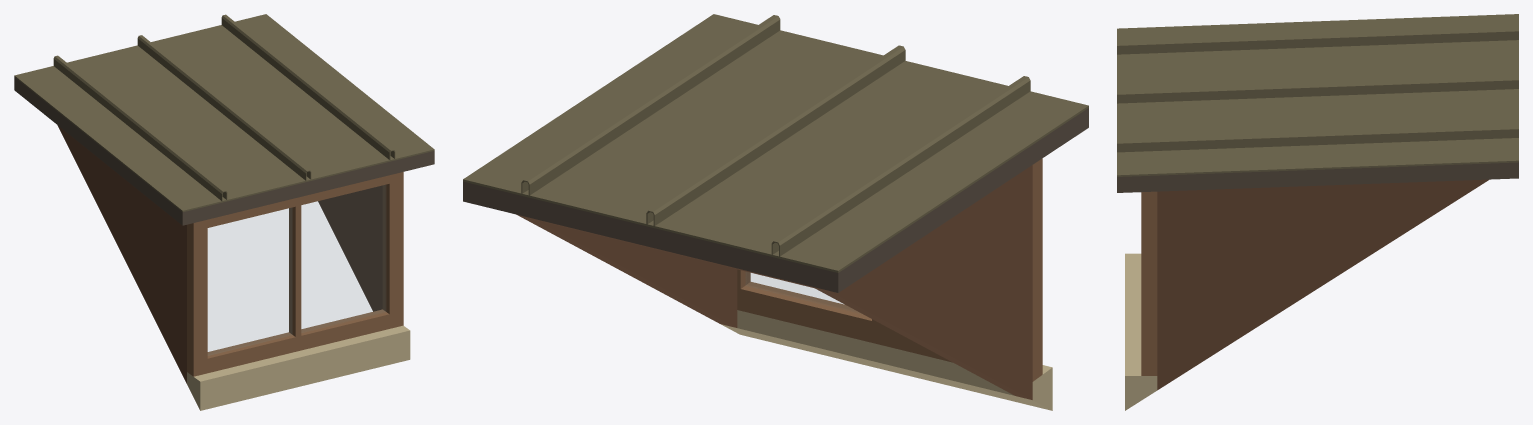
Rendered from rpg-mansion-fixed-shed-dormer-01.glb.
The picture shows the model from 3 angles, left to right: view 1: azimuth 30°, elevation 25°; view 2: azimuth 150°, elevation 25°; view 3: azimuth 270°, elevation 25°; orthographic projection. The views are drawn at different scales.
Visible parts, largest first — view 1: rpg-mansion-fixed-shed-dormer-01; view 2: rpg-mansion-fixed-shed-dormer-01; view 3: rpg-mansion-fixed-shed-dormer-01.
Boxes of the visible parts, x1,y1,x2,y2 form: rpg-mansion-fixed-shed-dormer-01: (14, 14, 434, 410); rpg-mansion-fixed-shed-dormer-01: (463, 14, 1088, 410); rpg-mansion-fixed-shed-dormer-01: (1117, 14, 1518, 410).
Size of the model in its own units: 1.08 by 0.939 by 1.25.
